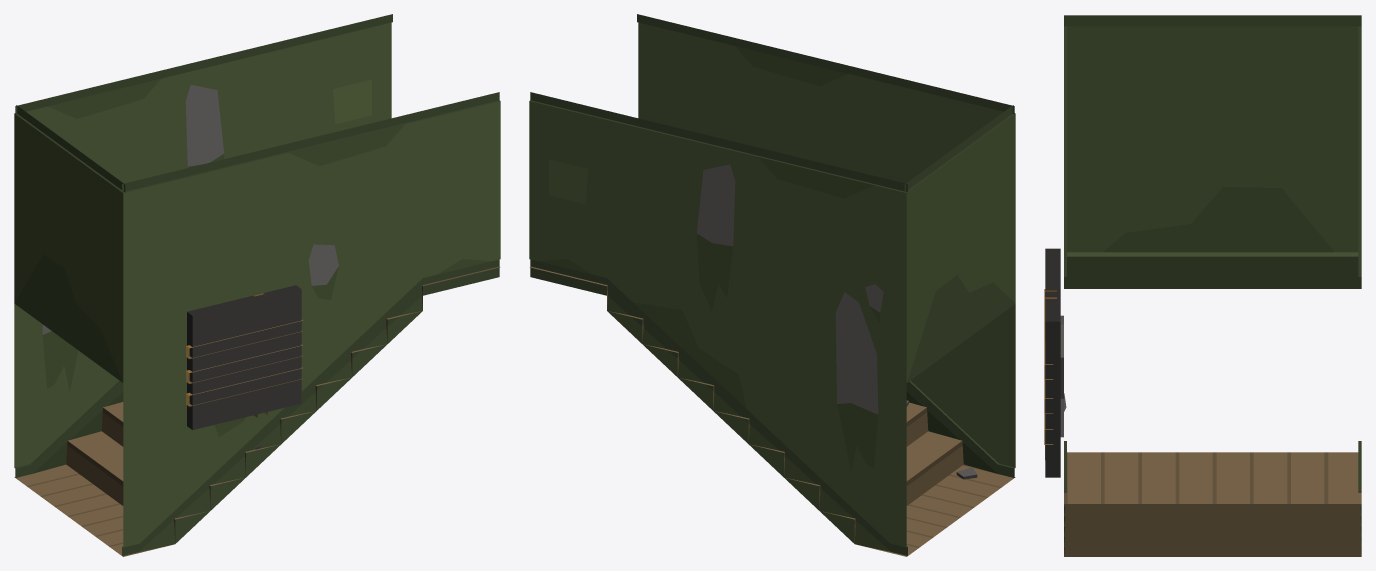
The model's file is AI_Env_Stairs_Green.fbx.
3 renders of one model, left to right at view 1: azimuth 30°, elevation 25°; view 2: azimuth 150°, elevation 25°; view 3: azimuth 270°, elevation 25°, orthographic. The views are drawn at different scales.
Parts seen in each view (by area): view 1: AI_Env_Stairs_Green; view 2: AI_Env_Stairs_Green; view 3: AI_Env_Stairs_Green.
Part boxes in pixels (bbox=[...]): AI_Env_Stairs_Green: bbox=[14, 14, 500, 556]; AI_Env_Stairs_Green: bbox=[529, 14, 1015, 556]; AI_Env_Stairs_Green: bbox=[1044, 15, 1361, 556].
Size of the model in its own units: 10 by 9.46 by 5.33.
